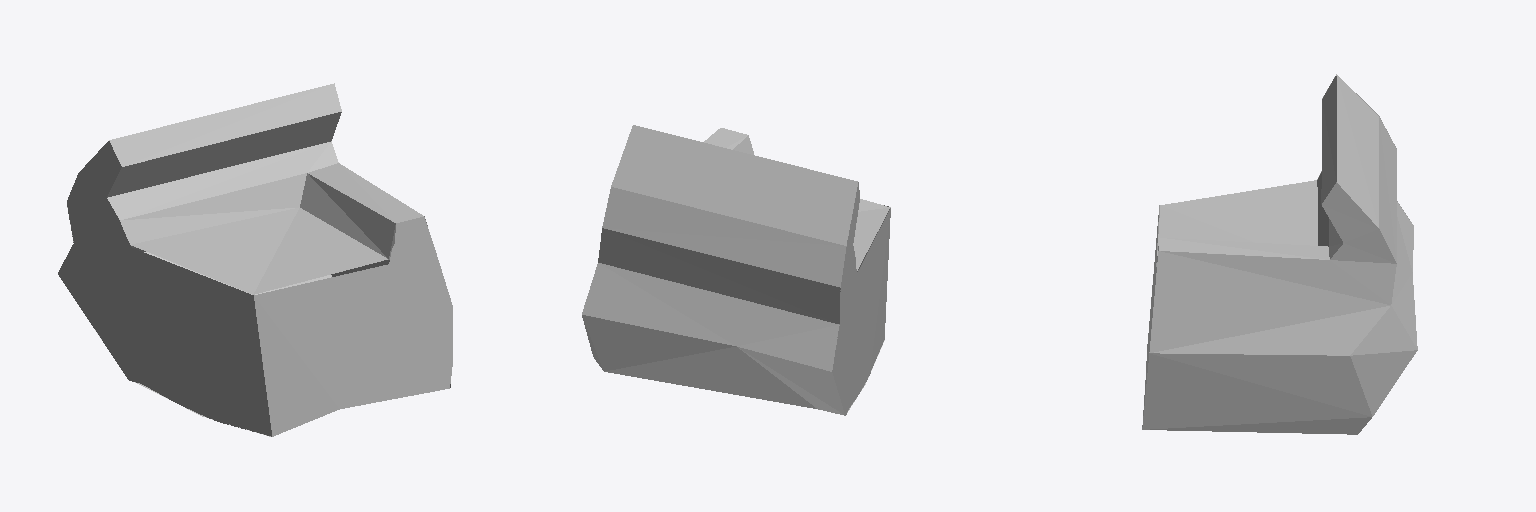
File: BrokenBasePart4.obj
3 views of the same model, side by side, from view 1: azimuth 30°, elevation 25°; view 2: azimuth 150°, elevation 25°; view 3: azimuth 270°, elevation 25° (orthographic).
Parts seen in each view (by area): view 1: Chassis-Lvl1-Base.006_Chassis-Lvl1_Cube.000_cell.001_Chassis-Lvl; view 2: Chassis-Lvl1-Base.006_Chassis-Lvl1_Cube.000_cell.001_Chassis-Lvl; view 3: Chassis-Lvl1-Base.006_Chassis-Lvl1_Cube.000_cell.001_Chassis-Lvl.
Part boxes in pixels (left/top/right/bottom): Chassis-Lvl1-Base.006_Chassis-Lvl1_Cube.000_cell.001_Chassis-Lvl: left=58, top=83, right=452, bottom=436; Chassis-Lvl1-Base.006_Chassis-Lvl1_Cube.000_cell.001_Chassis-Lvl: left=582, top=125, right=890, bottom=415; Chassis-Lvl1-Base.006_Chassis-Lvl1_Cube.000_cell.001_Chassis-Lvl: left=1142, top=74, right=1417, bottom=434.
Bounding box in the file's own units: 1.83 × 1.67 × 1.66.